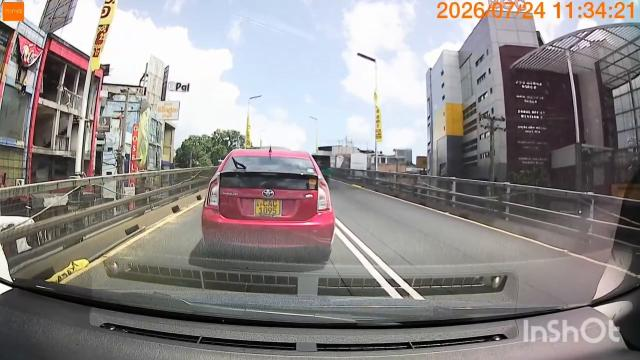number plate: (251, 199, 286, 221)
